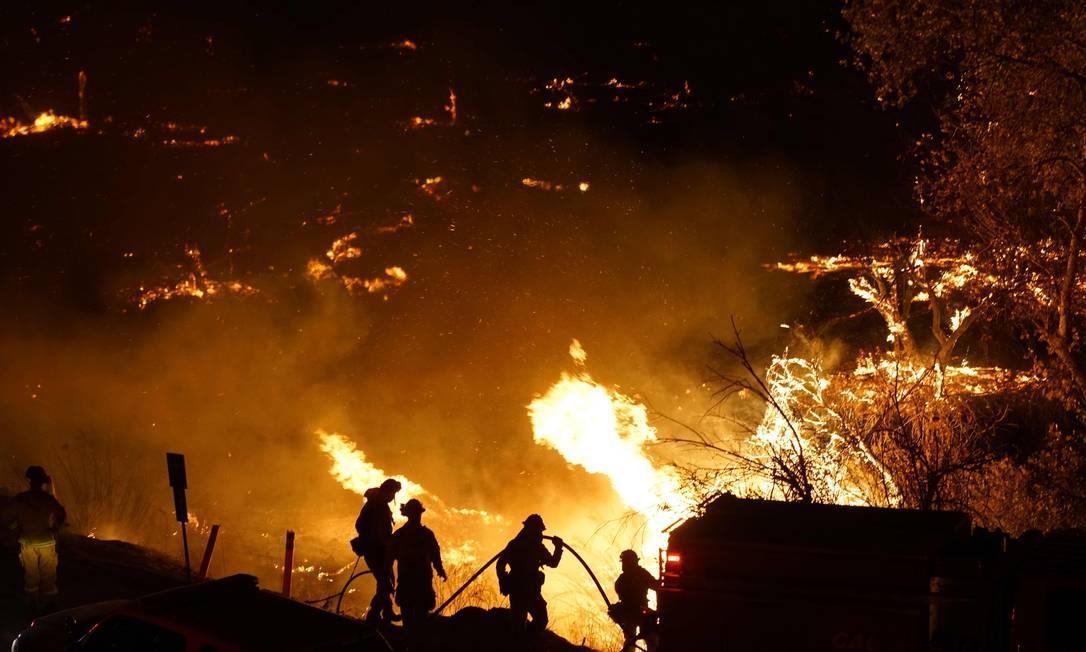Fire: (765, 237, 1014, 508), (521, 347, 705, 539), (305, 420, 453, 526), (299, 224, 424, 303), (125, 247, 264, 313), (2, 102, 93, 149)
